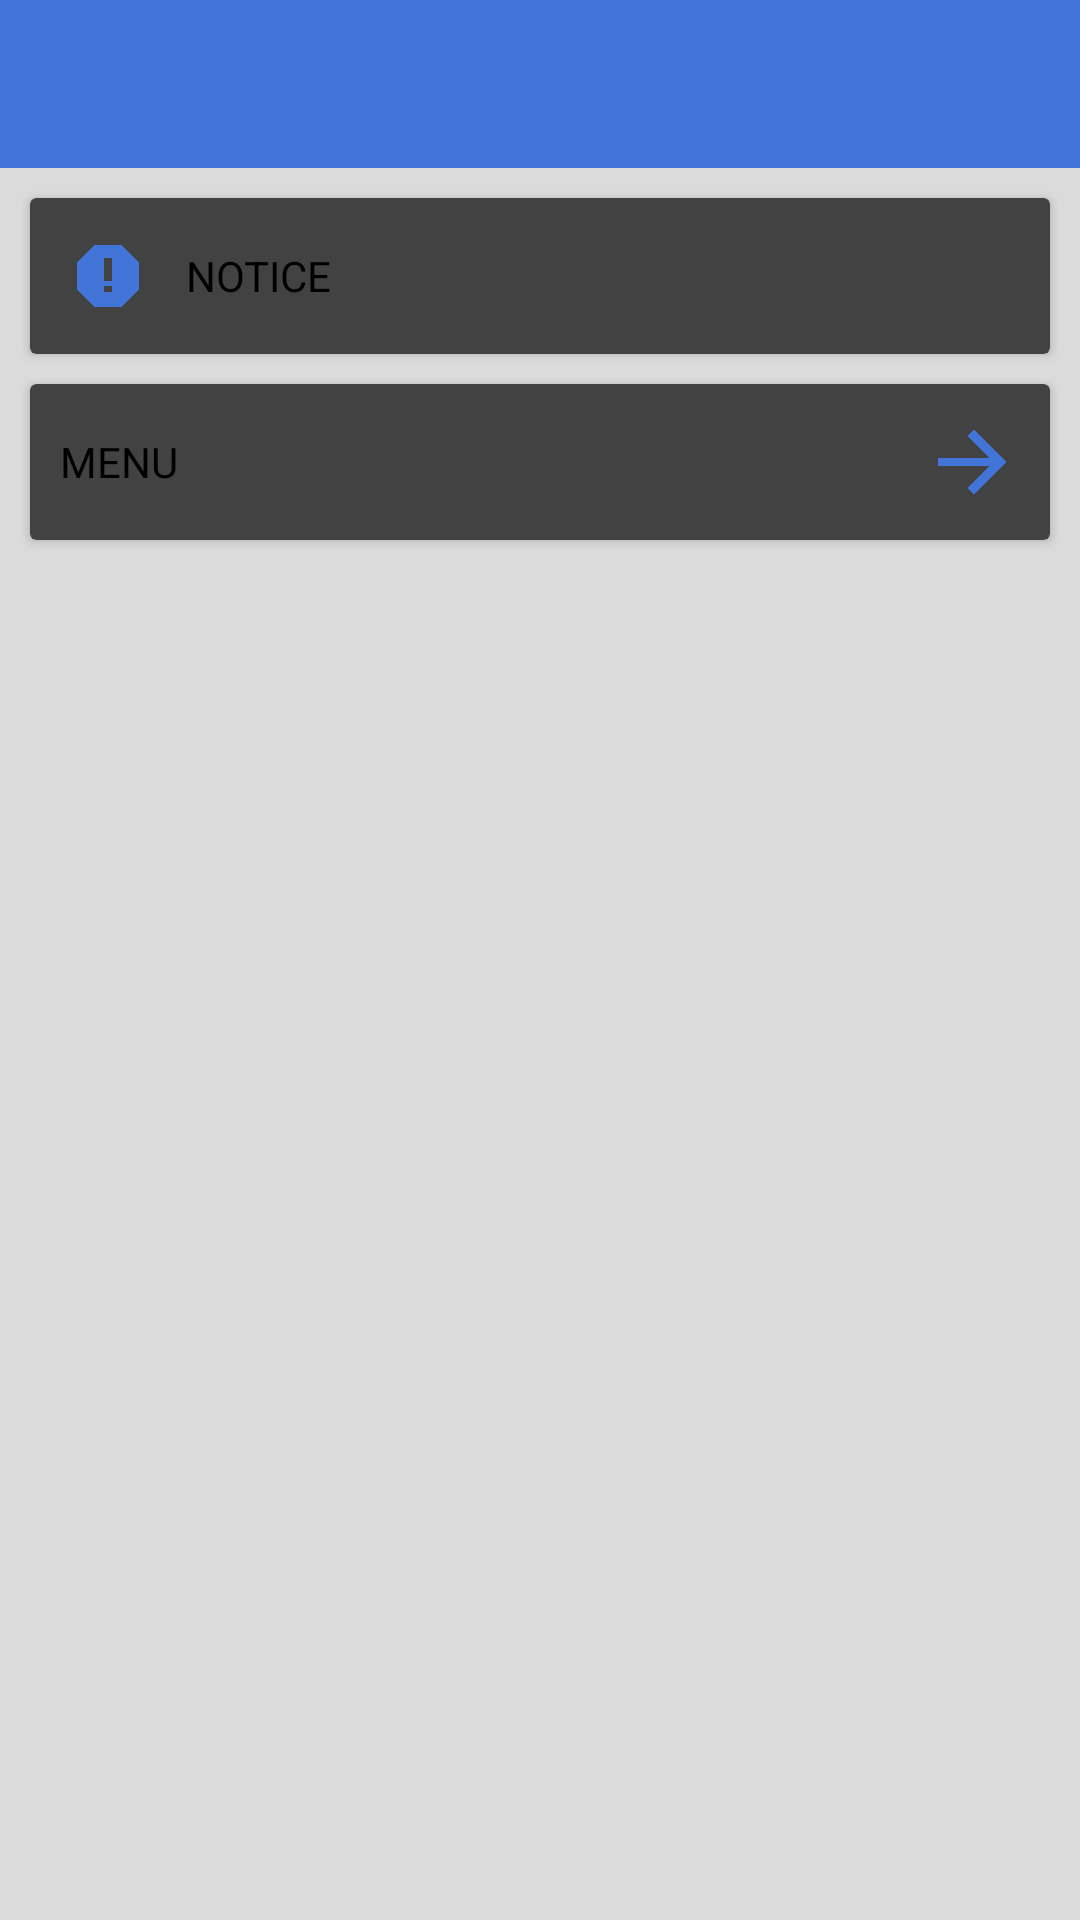

Named icons in this screenshot (1080*1920) and their bounding boxes, (x1=x1, y1=y1, x2=x2, y2=y2):
error: (x1=77, y1=245, x2=139, y2=307)
forward: (x1=938, y1=430, x2=1006, y2=494)
